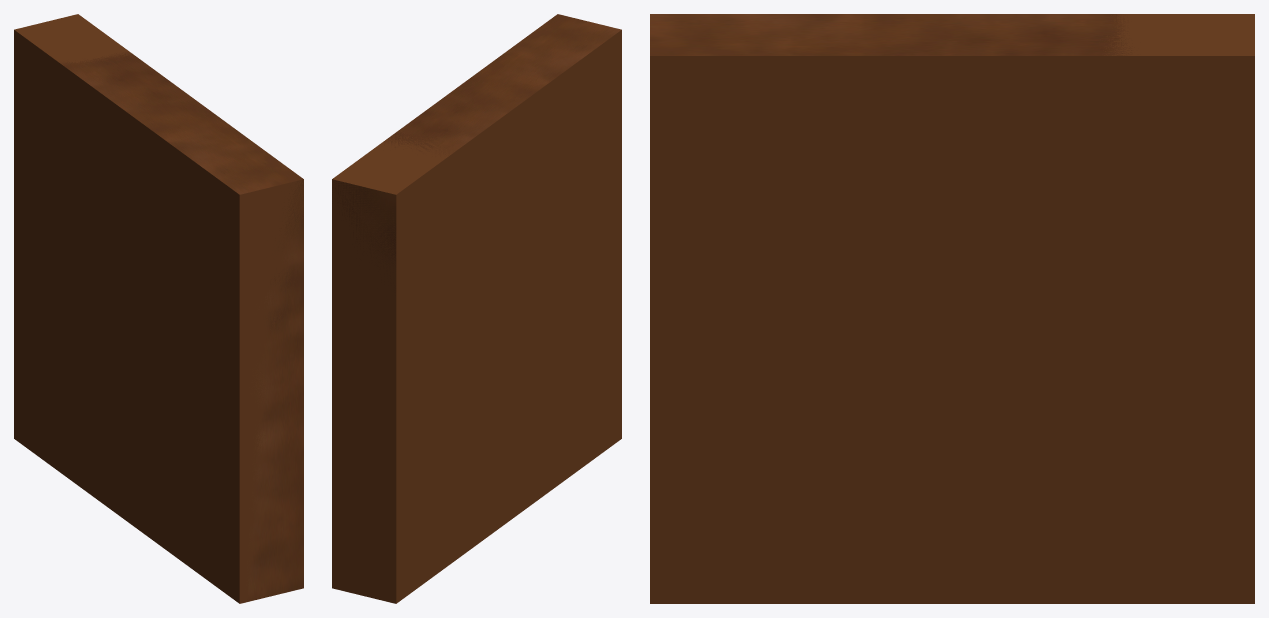
Rendered from Window03_light.fbx.
The picture shows the model from 3 angles, left to right: view 1: azimuth 30°, elevation 25°; view 2: azimuth 150°, elevation 25°; view 3: azimuth 270°, elevation 25°; orthographic projection. The views are drawn at different scales.
Parts seen in each view (by area): view 1: Cube#2, glass#2; view 2: Cube#2, glass#2; view 3: Cube#2, glass#2.
Boxes of the visible parts, x1,y1,x2,y2 form: Cube#2: (14, 14, 303, 603); glass#2: (58, 51, 303, 601); Cube#2: (332, 30, 621, 603); glass#2: (332, 14, 621, 306); Cube#2: (650, 14, 1254, 603); glass#2: (650, 14, 1134, 55).
Bounding box in the file's own units: 0.3283 × 2 × 2.
Materials: 2 (2 with a texture image).
